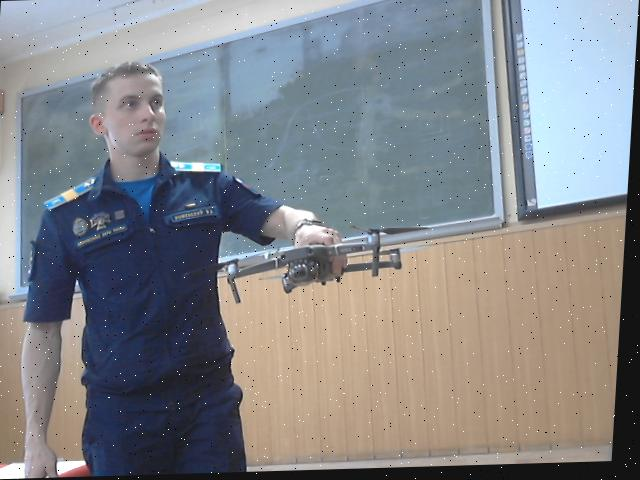drone: (216, 219, 441, 295)
